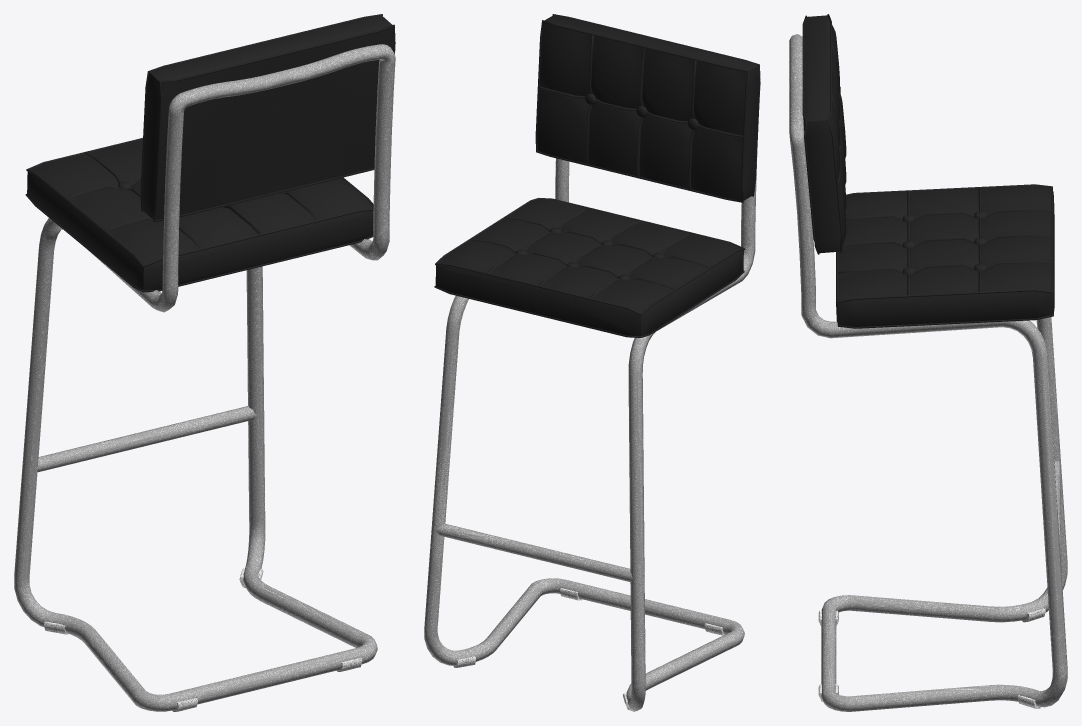
3 views of the same model, side by side, from view 1: azimuth 30°, elevation 25°; view 2: azimuth 150°, elevation 25°; view 3: azimuth 270°, elevation 25° (orthographic). The views are drawn at different scales.
Visible parts, largest first — view 1: mesh34_mesh34-geometry, mesh59_mesh59-geometry, mesh1_mesh1-geometry, mesh30_mesh30-geometry, mesh45_mesh45-geometry, mesh18_mesh18-geometry, mesh19_mesh19-geometry, mesh12_mesh12-geometry, mesh48_mesh48-geometry, mesh15_mesh15-geometry, mesh14_mesh14-geometry, mesh32_mesh32-geometry (+4 smaller); view 2: mesh34_mesh34-geometry, mesh18_mesh18-geometry, mesh14_mesh14-geometry, mesh19_mesh19-geometry, mesh15_mesh15-geometry, mesh1_mesh1-geometry, mesh45_mesh45-geometry, mesh12_mesh12-geometry, mesh59_mesh59-geometry, mesh48_mesh48-geometry, mesh47_mesh47-geometry, mesh16_mesh16-geometry (+8 smaller); view 3: mesh1_mesh1-geometry, mesh34_mesh34-geometry, mesh12_mesh12-geometry, mesh30_mesh30-geometry, mesh18_mesh18-geometry, mesh14_mesh14-geometry, mesh19_mesh19-geometry, mesh15_mesh15-geometry, mesh17_mesh17-geometry, mesh16_mesh16-geometry, mesh47_mesh47-geometry, mesh48_mesh48-geometry (+9 smaller).
Part boxes in pixels (x1=…): mesh34_mesh34-geometry: x1=14, y1=71, x2=286, y2=711; mesh59_mesh59-geometry: x1=141, y1=42, x2=278, y2=219; mesh1_mesh1-geometry: x1=243, y1=44, x2=395, y2=687; mesh30_mesh30-geometry: x1=265, y1=15, x2=393, y2=192; mesh45_mesh45-geometry: x1=27, y1=172, x2=261, y2=290; mesh18_mesh18-geometry: x1=30, y1=153, x2=373, y2=219; mesh19_mesh19-geometry: x1=89, y1=139, x2=315, y2=233; mesh12_mesh12-geometry: x1=260, y1=211, x2=373, y2=264; mesh48_mesh48-geometry: x1=68, y1=187, x2=149, y2=229; mesh15_mesh15-geometry: x1=179, y1=207, x2=257, y2=247; mesh14_mesh14-geometry: x1=107, y1=219, x2=199, y2=264; mesh32_mesh32-geometry: x1=141, y1=406, x2=257, y2=445; mesh34_mesh34-geometry: x1=626, y1=81, x2=760, y2=710; mesh18_mesh18-geometry: x1=507, y1=23, x2=742, y2=312; mesh14_mesh14-geometry: x1=438, y1=61, x2=746, y2=272; mesh19_mesh19-geometry: x1=541, y1=36, x2=691, y2=297; mesh15_mesh15-geometry: x1=489, y1=48, x2=693, y2=284; mesh1_mesh1-geometry: x1=424, y1=158, x2=646, y2=665; mesh45_mesh45-geometry: x1=537, y1=250, x2=743, y2=336; mesh12_mesh12-geometry: x1=435, y1=265, x2=538, y2=313; mesh59_mesh59-geometry: x1=645, y1=39, x2=759, y2=200; mesh48_mesh48-geometry: x1=629, y1=257, x2=707, y2=288; mesh47_mesh47-geometry: x1=578, y1=245, x2=651, y2=275; mesh16_mesh16-geometry: x1=527, y1=232, x2=600, y2=263; mesh1_mesh1-geometry: x1=789, y1=81, x2=1067, y2=711; mesh34_mesh34-geometry: x1=789, y1=34, x2=1067, y2=652; mesh12_mesh12-geometry: x1=836, y1=239, x2=1054, y2=326; mesh30_mesh30-geometry: x1=803, y1=66, x2=840, y2=253; mesh18_mesh18-geometry: x1=829, y1=95, x2=1050, y2=300; mesh14_mesh14-geometry: x1=832, y1=25, x2=1050, y2=291; mesh19_mesh19-geometry: x1=832, y1=74, x2=1050, y2=271; mesh15_mesh15-geometry: x1=832, y1=47, x2=1050, y2=266; mesh17_mesh17-geometry: x1=910, y1=266, x2=978, y2=294; mesh16_mesh16-geometry: x1=910, y1=239, x2=978, y2=269; mesh47_mesh47-geometry: x1=910, y1=213, x2=978, y2=243; mesh48_mesh48-geometry: x1=910, y1=188, x2=978, y2=217.
Size of the model in its own units: 0.3481 by 0.8634 by 0.3653.
Materials: 4 (1 with a texture image).
